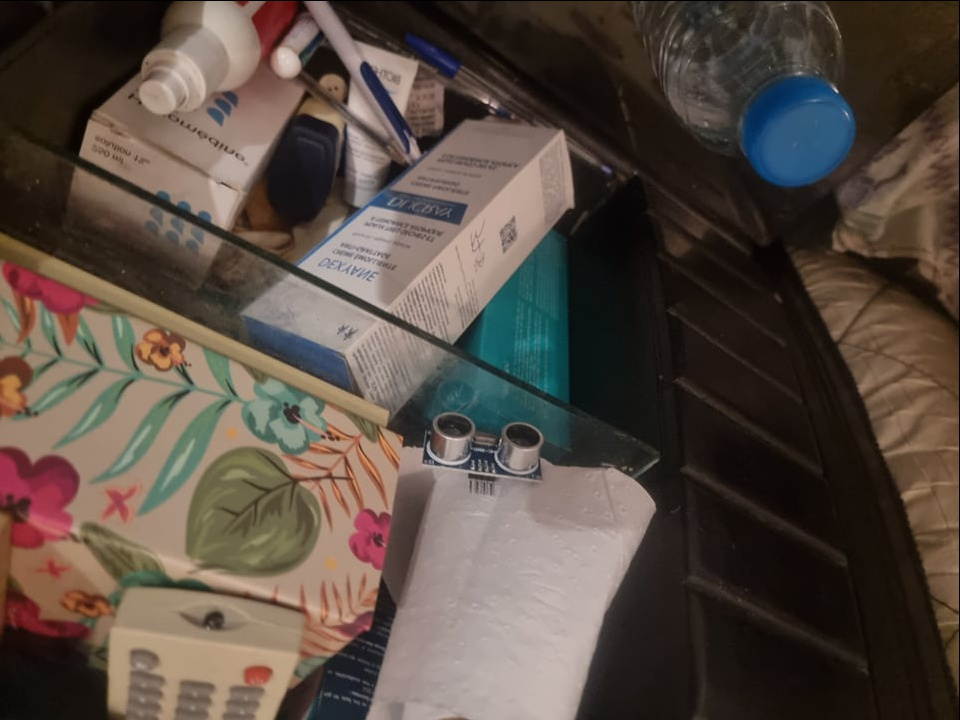SENSOR: (423, 408, 546, 476)
